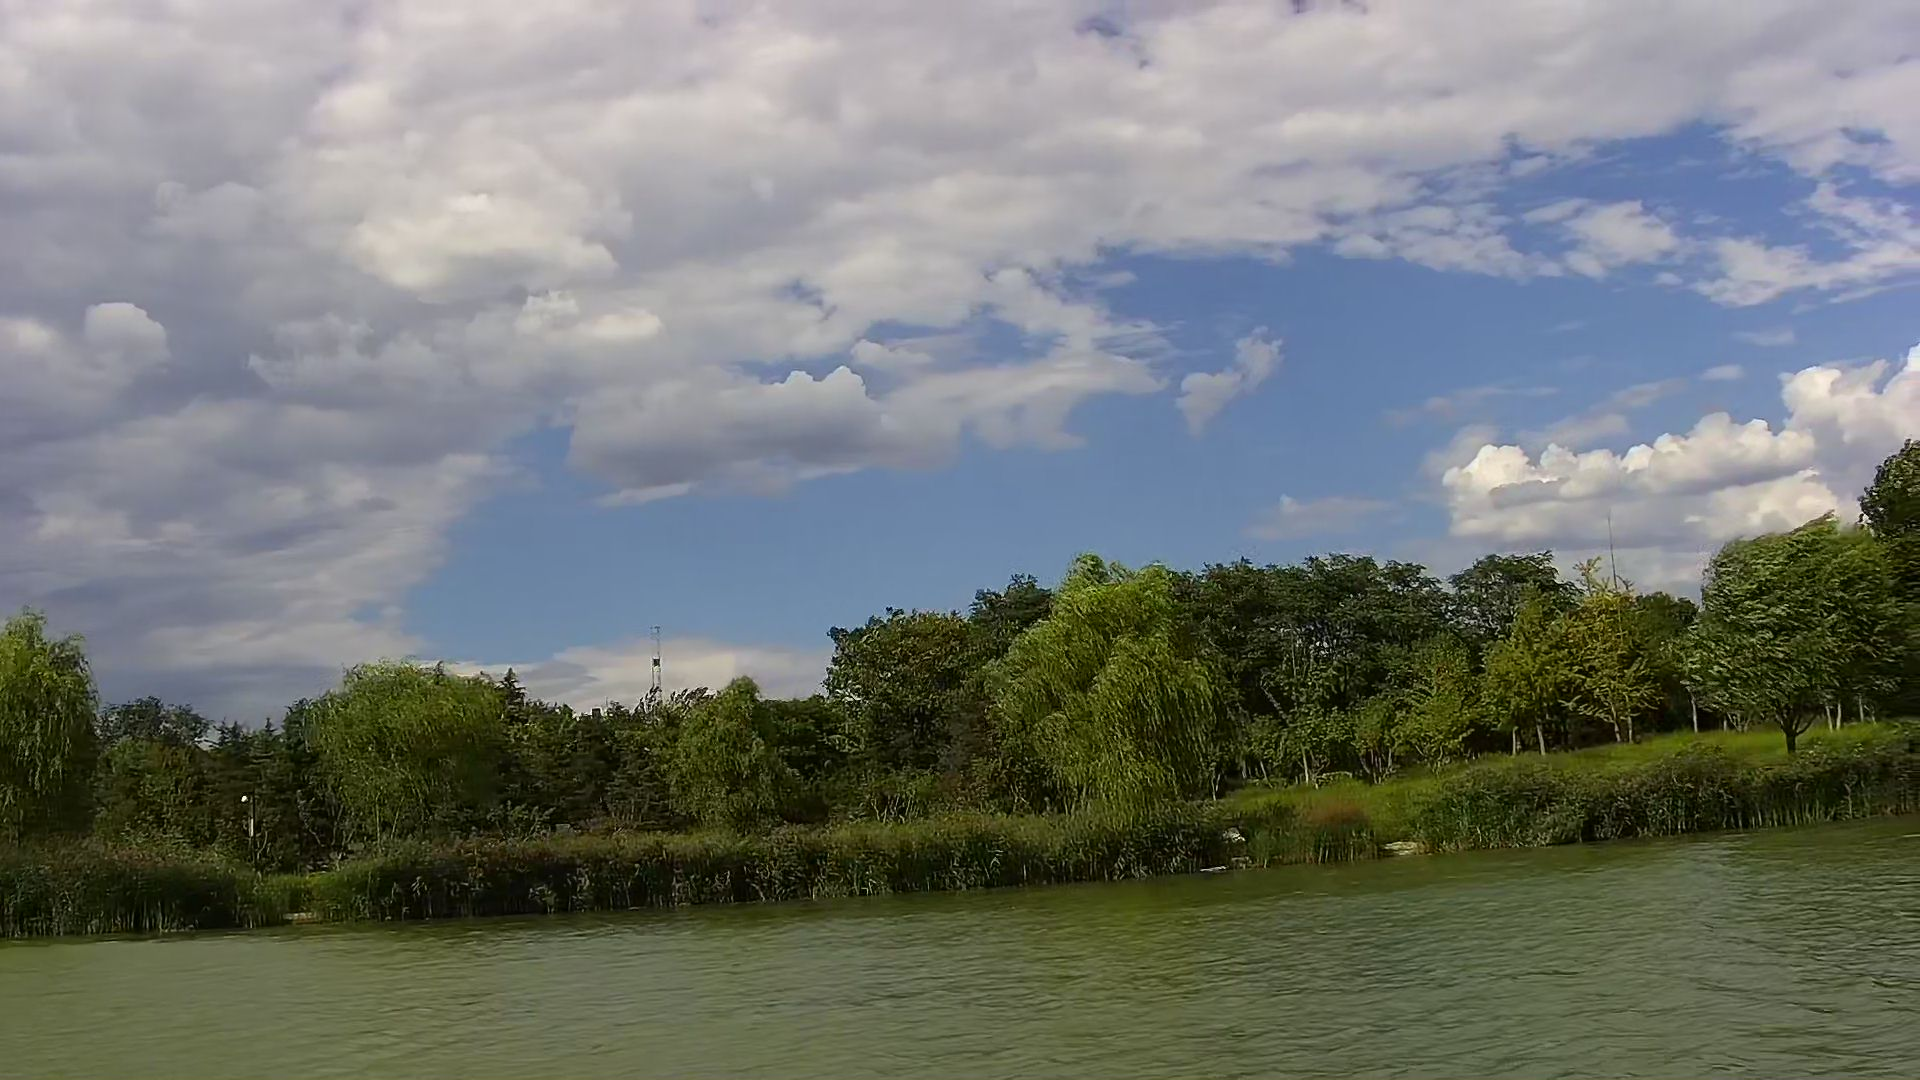rock: (1382, 837, 1425, 861)
